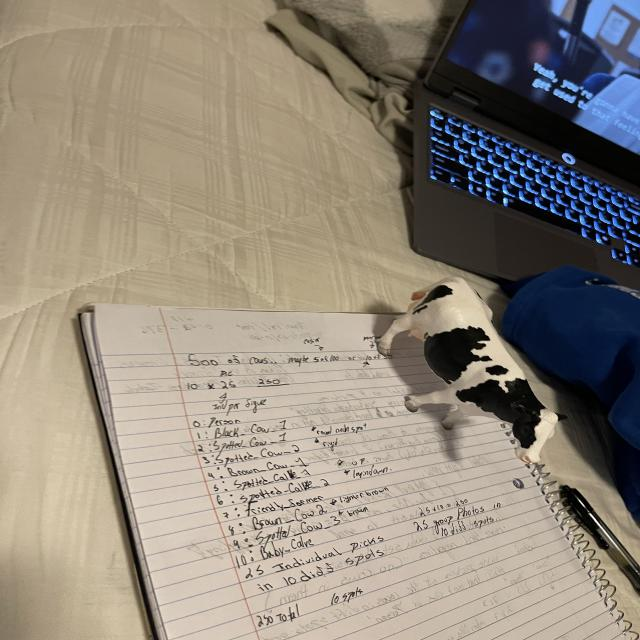cow: (355, 263, 576, 505)
